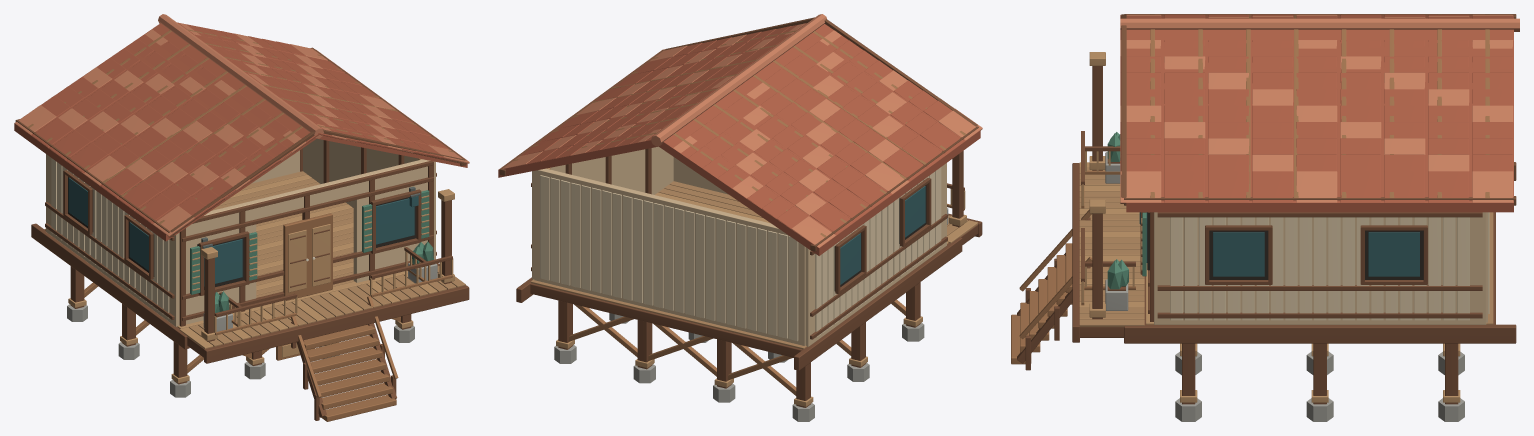
The model's file is TRADITIONAL_KAMPUNG_HOUSE1.fbx.
The picture shows the model from 3 angles, left to right: view 1: azimuth 30°, elevation 25°; view 2: azimuth 150°, elevation 25°; view 3: azimuth 270°, elevation 25°; orthographic projection. The views are drawn at different scales.
Visible parts, largest first — view 1: 51 Main solid pitched roof, 12 Front floor fascia, 19 Front wall right panel, 17 Right wall timber body, 13 Left floor fascia, 18 Front wall left panel, 55 Long roof ridge cap, 28 Main double timber entrance door, 16 Left wall timber body, 20 Front wall upper lintel, 33 Front window glass.001, 23 Front wall timber rail.002 (+45 smaller); view 2: 51 Main solid pitched roof, 15 Rear wall timber body, 17 Right wall timber body, 08 Raised timber floor platform, 13 Left floor fascia, 55 Long roof ridge cap, 16 Left wall timber body, 09 Individual floorboard.026, 27 Rear timber siding.008, 27 Rear timber siding.011, 27 Rear timber siding.014, 27 Rear timber siding (+60 smaller); view 3: 51 Main solid pitched roof, 17 Right wall timber body, 14 Right floor fascia, 55 Long roof ridge cap, 39 Side window glass.002, 39 Side window glass.003, 24 Side wall timber rail.004, 24 Side wall timber rail.006, 24 Side wall timber rail.005, 12 Front floor fascia, 25 Right side timber siding.001, 54 Individual terracotta roof tile.120 (+105 smaller).
Boxes of the visible parts, bbox=[...] form: 51 Main solid pitched roof: bbox=[14, 22, 467, 241]; 12 Front floor fascia: bbox=[204, 285, 469, 363]; 19 Front wall right panel: bbox=[353, 159, 430, 282]; 17 Right wall timber body: bbox=[303, 138, 435, 259]; 13 Left floor fascia: bbox=[31, 223, 189, 349]; 18 Front wall left panel: bbox=[186, 201, 256, 324]; 55 Long roof ridge cap: bbox=[158, 14, 323, 138]; 28 Main double timber entrance door: bbox=[283, 213, 332, 300]; 16 Left wall timber body: bbox=[46, 154, 179, 326]; 20 Front wall upper lintel: bbox=[251, 176, 358, 219]; 33 Front window glass.001: bbox=[376, 198, 414, 244]; 23 Front wall timber rail.002: bbox=[182, 177, 433, 241]; 51 Main solid pitched roof: bbox=[498, 23, 980, 255]; 15 Rear wall timber body: bbox=[534, 168, 805, 345]; 17 Right wall timber body: bbox=[532, 146, 673, 279]; 08 Raised timber floor platform: bbox=[530, 283, 802, 357]; 13 Left floor fascia: bbox=[794, 237, 962, 370]; 55 Long roof ridge cap: bbox=[651, 14, 826, 146]; 16 Left wall timber body: bbox=[805, 163, 946, 346]; 09 Individual floorboard.026: bbox=[530, 279, 806, 349]; 27 Rear timber siding.008: bbox=[705, 215, 715, 320]; 27 Rear timber siding.011: bbox=[674, 208, 684, 313]; 27 Rear timber siding.014: bbox=[643, 200, 653, 305]; 27 Rear timber siding: bbox=[788, 236, 798, 341]; 51 Main solid pitched roof: bbox=[1126, 15, 1513, 212]; 17 Right wall timber body: bbox=[1154, 212, 1486, 324]; 14 Right floor fascia: bbox=[1124, 324, 1516, 343]; 55 Long roof ridge cap: bbox=[1120, 18, 1519, 31]; 39 Side window glass.002: bbox=[1213, 232, 1264, 276]; 39 Side window glass.003: bbox=[1368, 232, 1419, 276]; 24 Side wall timber rail.004: bbox=[1157, 312, 1482, 318]; 24 Side wall timber rail.006: bbox=[1157, 212, 1482, 217]; 24 Side wall timber rail.005: bbox=[1157, 285, 1482, 290]; 12 Front floor fascia: bbox=[1072, 163, 1079, 342]; 25 Right side timber siding.001: bbox=[1184, 217, 1197, 320]; 54 Individual terracotta roof tile.120: bbox=[1252, 171, 1293, 202].
Bounding box in the file's own units: 930 × 758 × 1064.
